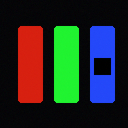1 square: (94, 58, 110, 74)
